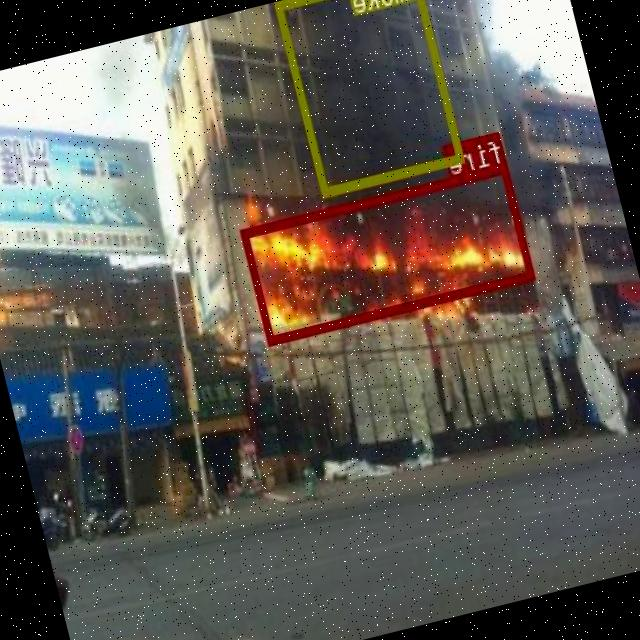fire: (240, 161, 536, 344)
smoke: (276, 0, 464, 195)
